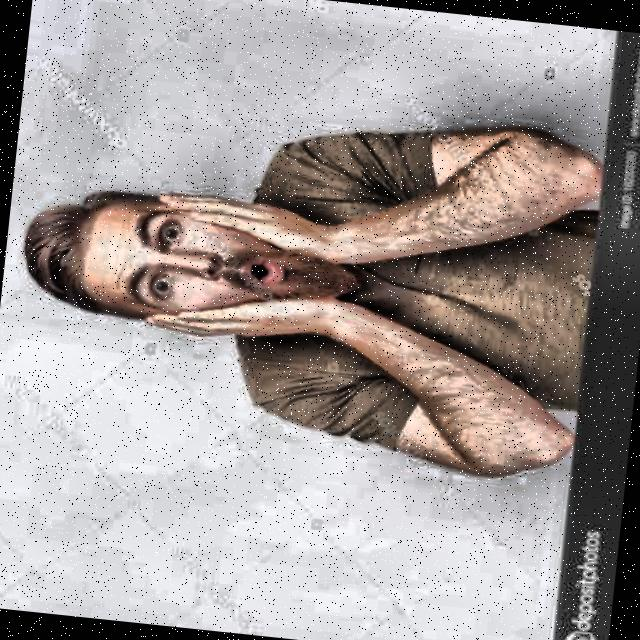surprised: (6, 162, 369, 351)
